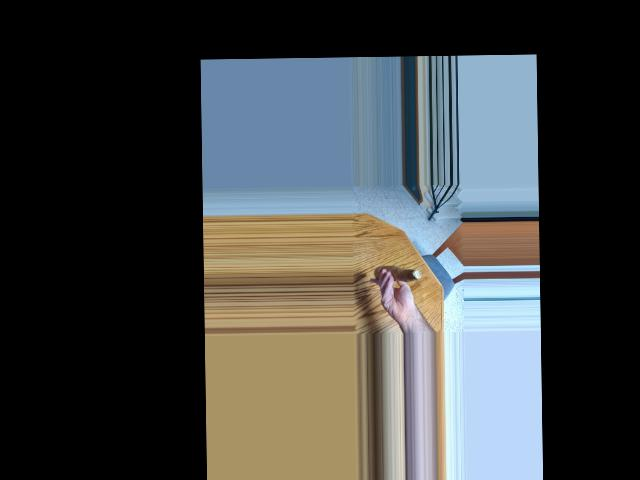sweet_potato: (378, 263, 417, 285)
